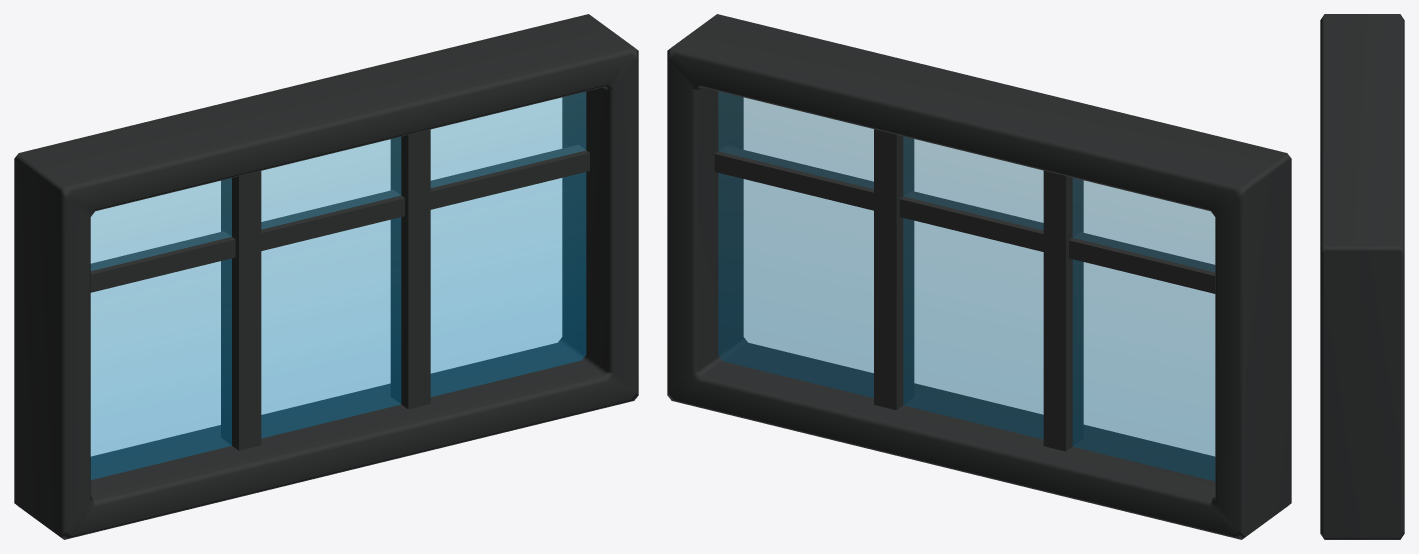
The model's file is Window_Black_03.glb.
The picture shows the model from 3 angles, left to right: view 1: azimuth 30°, elevation 25°; view 2: azimuth 150°, elevation 25°; view 3: azimuth 270°, elevation 25°; orthographic projection. The views are drawn at different scales.
Parts seen in each view (by area): view 1: Window_Black_03; view 2: Window_Black_03; view 3: Window_Black_03.
Part boxes in pixels (<box>): Window_Black_03: <box>14,14,638,539</box>; Window_Black_03: <box>667,14,1291,539</box>; Window_Black_03: <box>1320,14,1404,539</box>.
Size of the model in its own units: 2.64 by 1.54 by 0.4.
2 materials, 2 textured.
